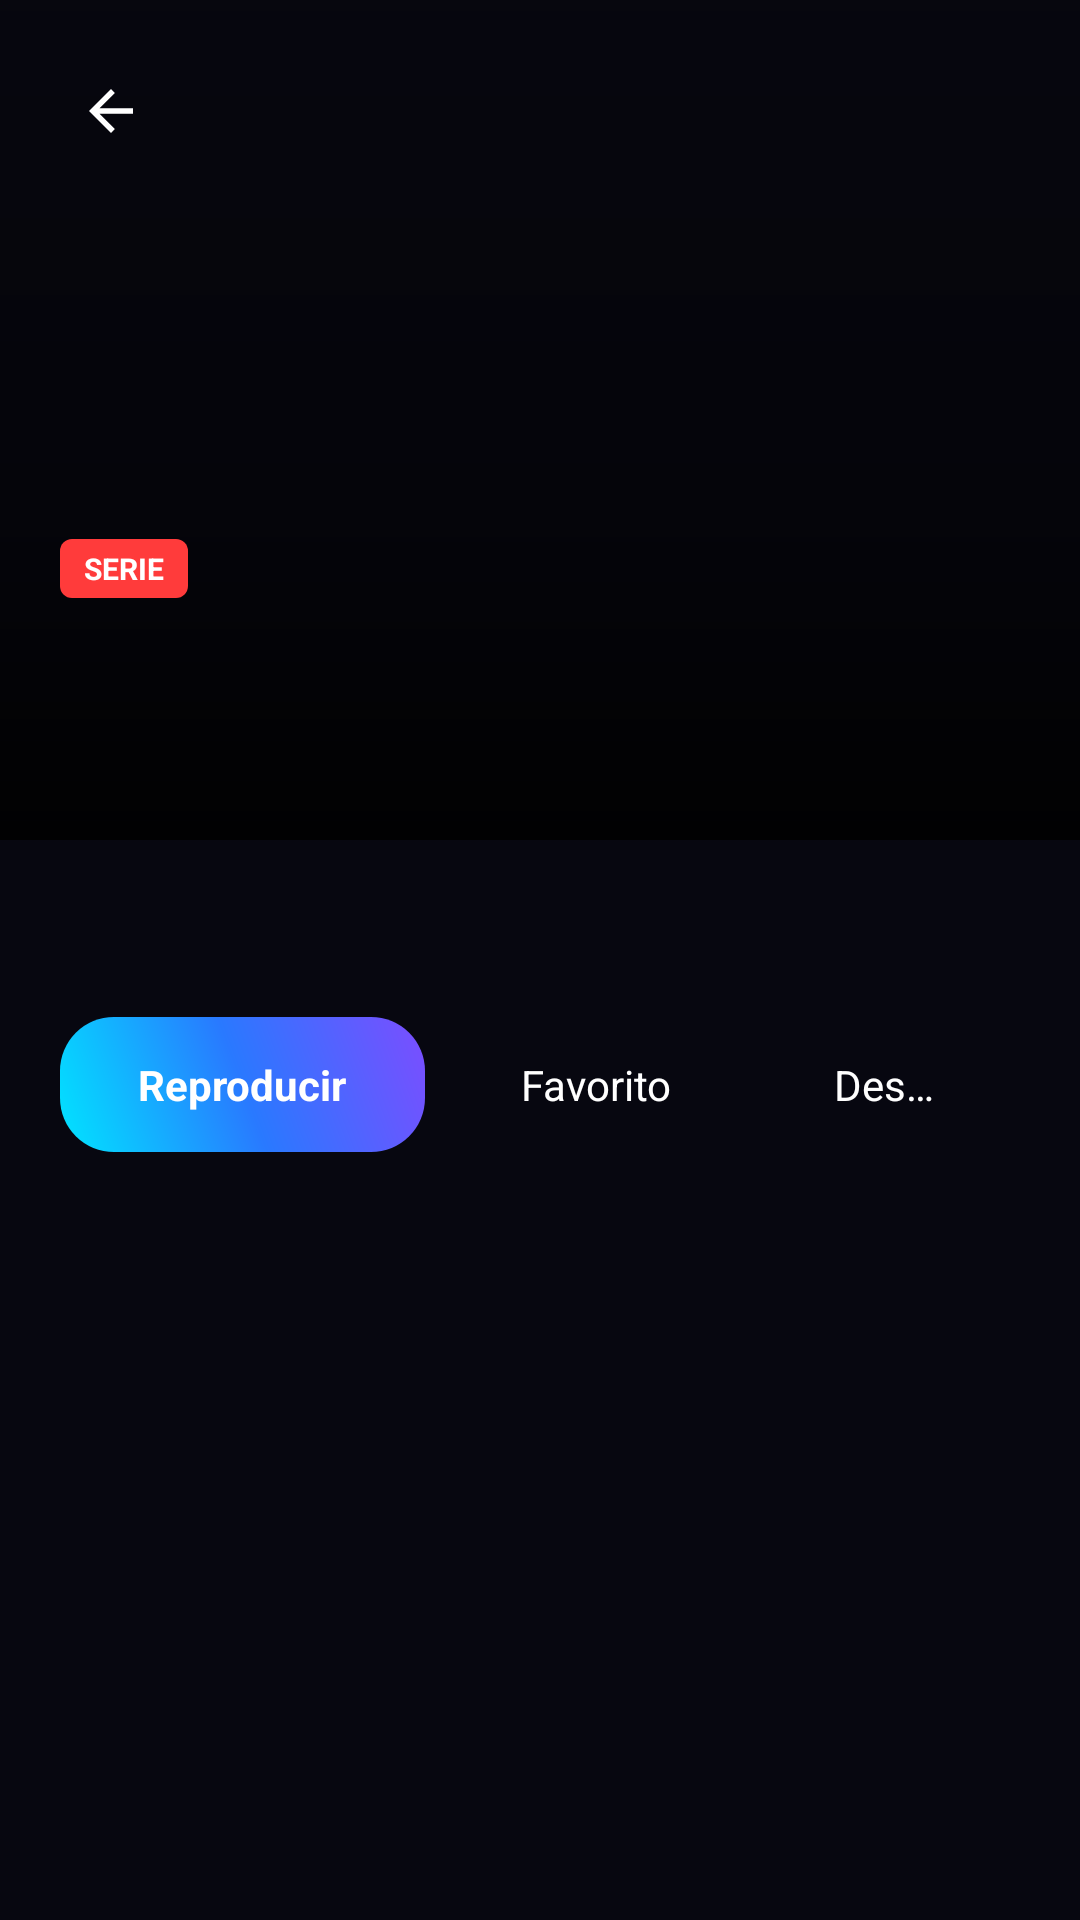

Icons on this 1080w x 1920h Android screen, each with the point to tap as point (x, y):
back: point (111, 111)
